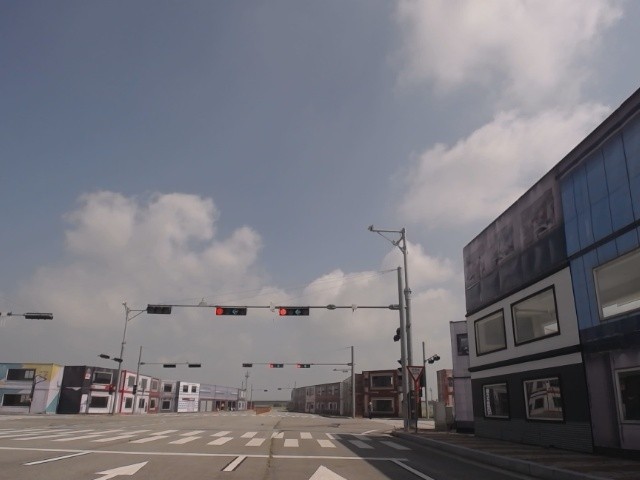left_green_4: (215, 307, 247, 316), (279, 308, 309, 316)
